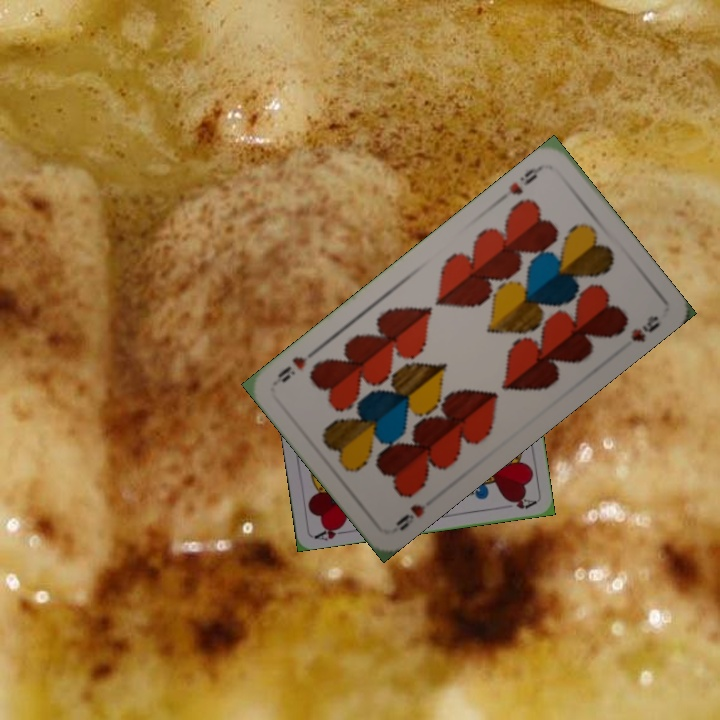H9: (504, 160, 546, 198), (391, 500, 428, 533)
HA: (310, 520, 351, 543)
